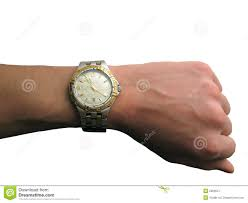clock: (75, 68, 112, 108)
